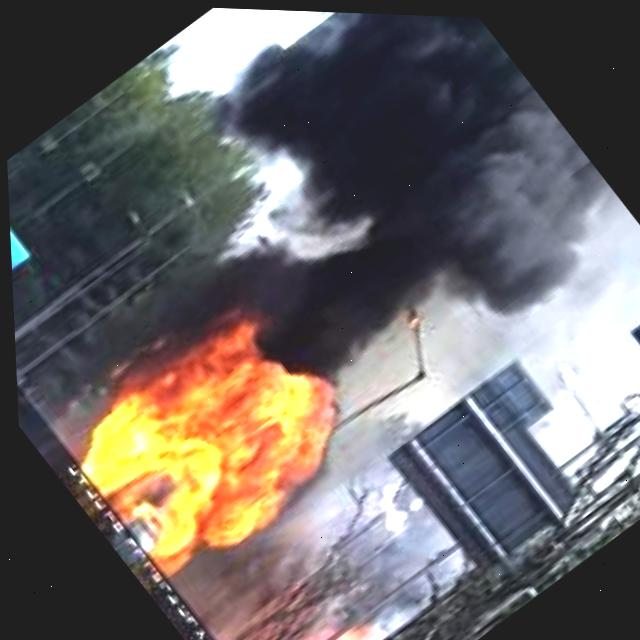Fire: (48, 300, 356, 590)
Smoke: (120, 3, 640, 456)
